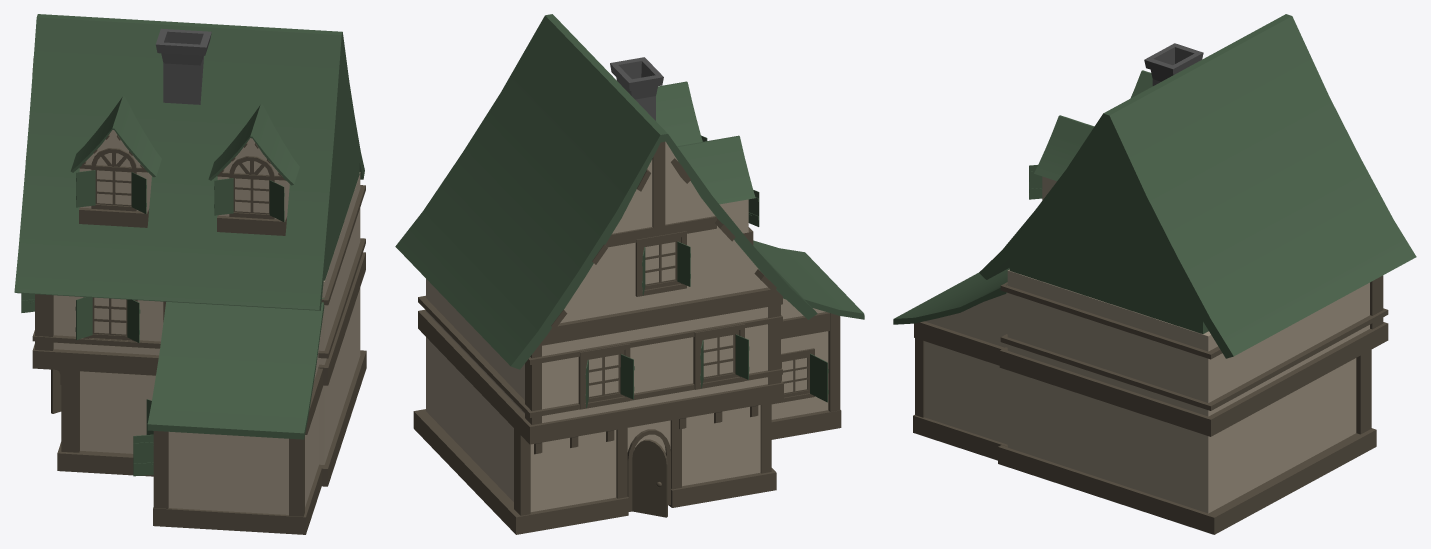
Rendered from House_2.fbx.
3 renders of one model, left to right at view 1: azimuth 30°, elevation 25°; view 2: azimuth 150°, elevation 25°; view 3: azimuth 270°, elevation 25°, orthographic. The views are drawn at different scales.
Parts seen in each view (by area): view 1: house_2, Window_Shutters_49, Window_Shutters_50, Window_Shutters_52, Window_Shutters_46, Window_Shutters_53, Window_Shutters_51, Window_Shutters_47, door; view 2: house_2, door, Window_Shutters_49, Window_Shutters_44, Window_Shutters_45, Window_Shutters_42; view 3: house_2.
Part boxes in pixels (x1=…): house_2: x1=14, y1=14, x2=366, y2=534; Window_Shutters_49: x1=133, y1=434, x2=153, y2=476; Window_Shutters_50: x1=76, y1=170, x2=95, y2=207; Window_Shutters_52: x1=214, y1=178, x2=233, y2=215; Window_Shutters_46: x1=75, y1=297, x2=92, y2=340; Window_Shutters_53: x1=269, y1=180, x2=284, y2=221; Window_Shutters_51: x1=131, y1=172, x2=146, y2=213; Window_Shutters_47: x1=127, y1=299, x2=140, y2=342; door: x1=51, y1=369, x2=61, y2=413; house_2: x1=395, y1=14, x2=864, y2=534; door: x1=632, y1=439, x2=667, y2=517; Window_Shutters_49: x1=810, y1=353, x2=828, y2=402; Window_Shutters_44: x1=735, y1=334, x2=749, y2=379; Window_Shutters_45: x1=677, y1=241, x2=690, y2=286; Window_Shutters_42: x1=620, y1=354, x2=634, y2=399; house_2: x1=893, y1=14, x2=1416, y2=534.
Size of the model in its own units: 1046 by 1019 by 1263.
